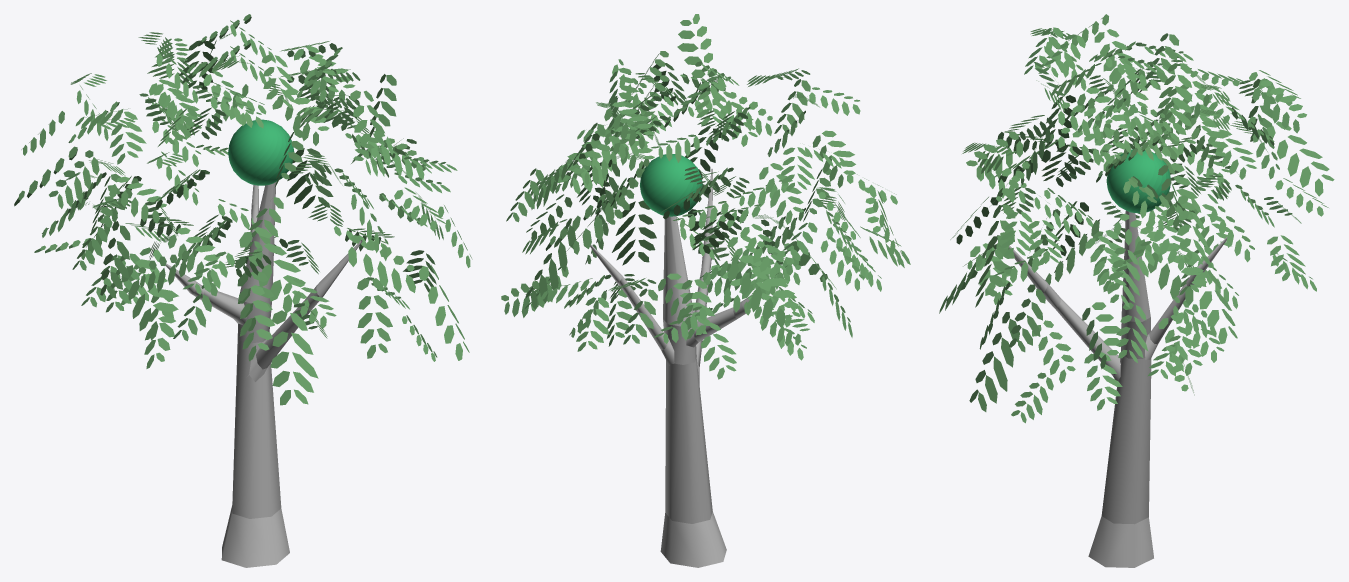
Rendered from Orb.fbx.
3 views of the same model, side by side, from view 1: azimuth 30°, elevation 25°; view 2: azimuth 150°, elevation 25°; view 3: azimuth 270°, elevation 25° (orthographic). The views are drawn at different scales.
Parts seen in each view (by area): view 1: trunk2_1, Mystic_Orb1, trunk2_2, trunk2_3; view 2: trunk2_1, Mystic_Orb1, trunk2_4, trunk2_3, trunk2_2; view 3: trunk2_1, Mystic_Orb1, trunk2_2, trunk2_4.
Part boxes in pixels (x1,y1,x2,y2): trunk2_1: [221, 182, 289, 567]; Mystic_Orb1: [228, 119, 294, 185]; trunk2_2: [247, 240, 362, 381]; trunk2_3: [165, 263, 246, 325]; trunk2_1: [660, 216, 726, 567]; Mystic_Orb1: [640, 154, 702, 216]; trunk2_4: [590, 244, 674, 365]; trunk2_3: [686, 295, 751, 347]; trunk2_2: [694, 168, 712, 387]; trunk2_1: [1088, 210, 1153, 567]; Mystic_Orb1: [1106, 149, 1170, 213]; trunk2_2: [1008, 245, 1120, 380]; trunk2_4: [1145, 236, 1227, 359].
Size of the model in its own units: 235 by 322 by 225.
